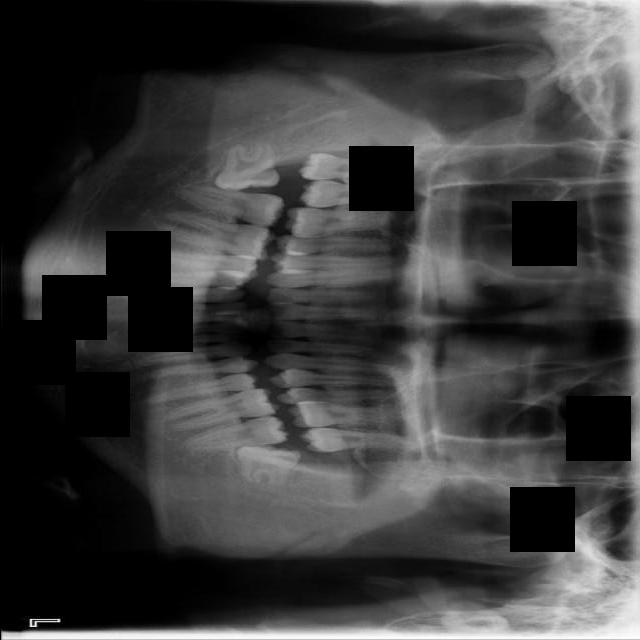3M ESPE Implant: (297, 152, 416, 184)
73: (32, 618, 38, 622)
BioHorizons Implant: (297, 426, 429, 460)
Biomet 3i Implant: (230, 437, 303, 496)
Blue Sky Bio Implant: (182, 412, 289, 455)
Caries: (296, 179, 424, 213)
Implant: (173, 172, 286, 232)
Keystone Dental Implant: (208, 138, 280, 194)
